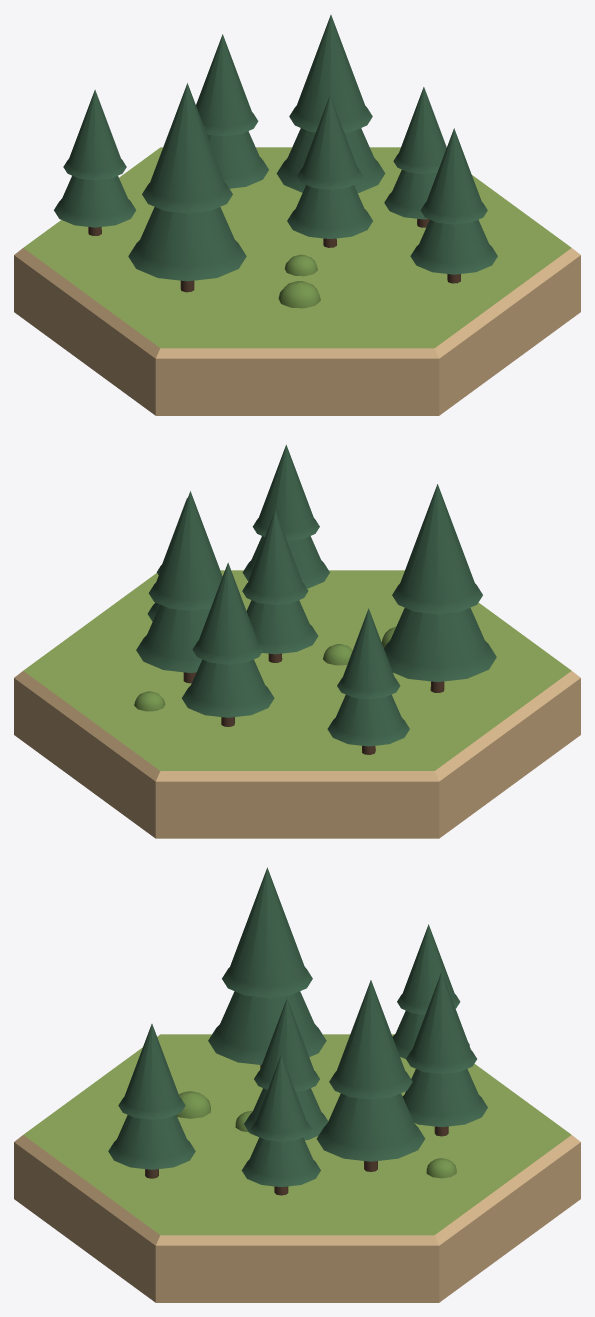
File: tile_pine_forest_1.fbx
3 renders of one model, top to bottom at view 1: azimuth 30°, elevation 25°; view 2: azimuth 150°, elevation 25°; view 3: azimuth 270°, elevation 25°, orthographic.
Visible parts, largest first — view 1: tile_pine_forest_1; view 2: tile_pine_forest_1; view 3: tile_pine_forest_1.
Part boxes in pixels (x1=…): tile_pine_forest_1: x1=14, y1=15, x2=580, y2=415; tile_pine_forest_1: x1=14, y1=444, x2=580, y2=838; tile_pine_forest_1: x1=14, y1=867, x2=580, y2=1302.
Bounding box in the file's own units: 1.73 × 1.05 × 2.
